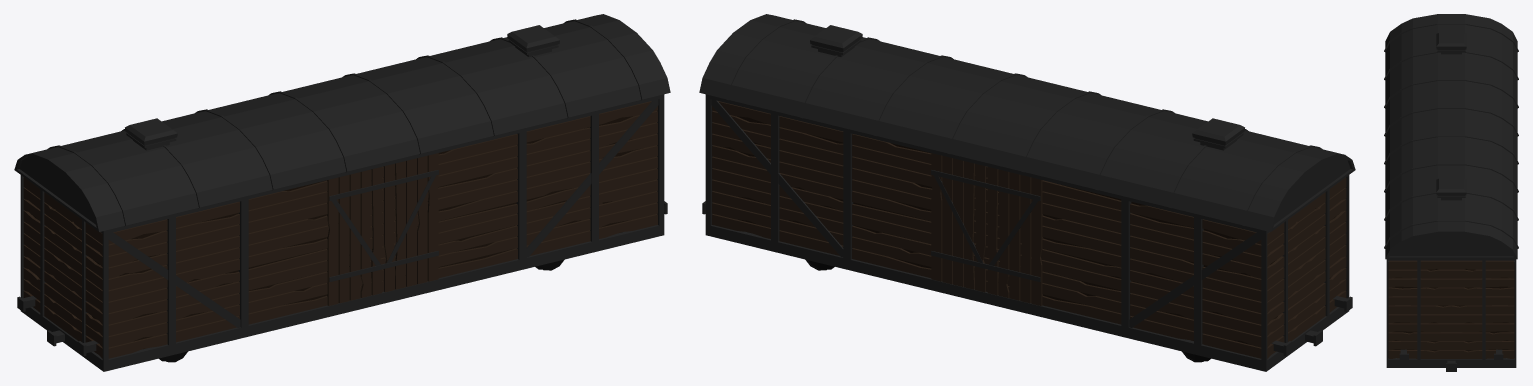
The model's file is Locomotive_Wagon.obj.
3 renders of one model, left to right at view 1: azimuth 30°, elevation 25°; view 2: azimuth 150°, elevation 25°; view 3: azimuth 270°, elevation 25°, orthographic. The views are drawn at different scales.
Visible parts, largest first — view 1: Locomotive_Wagon_Cube.012; view 2: Locomotive_Wagon_Cube.012; view 3: Locomotive_Wagon_Cube.012.
Boxes of the visible parts, box(x1,y1,x2,y2) form: Locomotive_Wagon_Cube.012: box(14, 14, 670, 371); Locomotive_Wagon_Cube.012: box(699, 14, 1355, 371); Locomotive_Wagon_Cube.012: box(1384, 14, 1518, 371).
Size of the model in its own units: 8.06 by 2.95 by 2.07.
